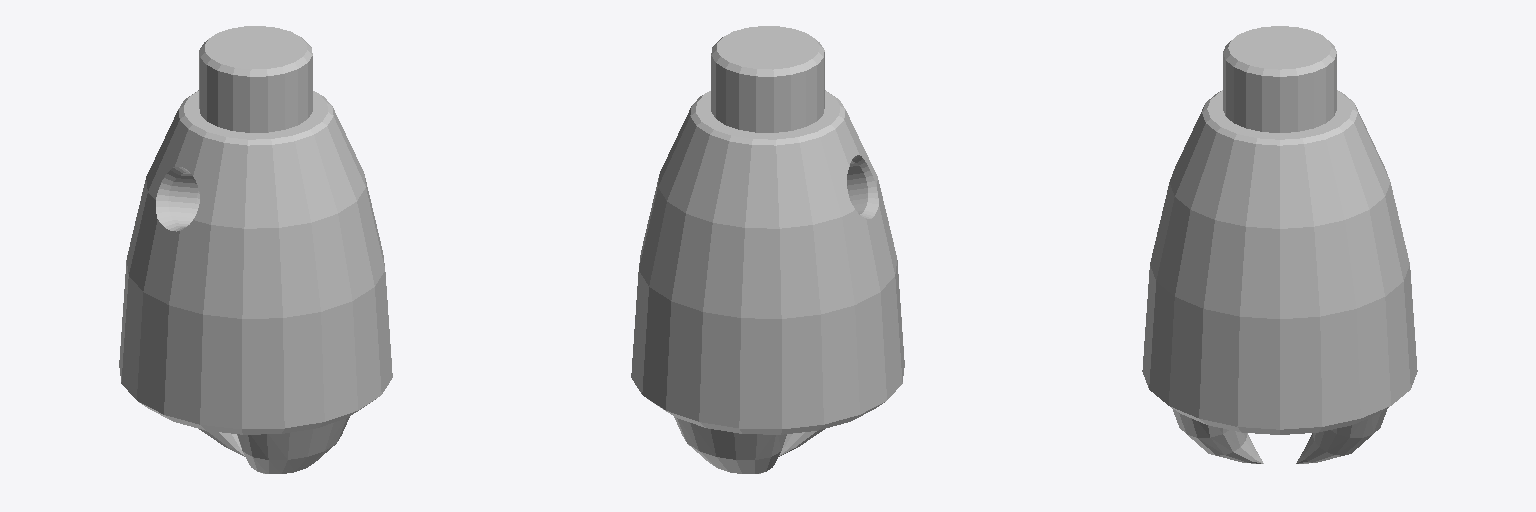
File: JosephHandLeft.obj
3 views of the same model, side by side, from view 1: azimuth 30°, elevation 25°; view 2: azimuth 150°, elevation 25°; view 3: azimuth 270°, elevation 25° (orthographic).
Visible parts, largest first — view 1: HandLeft; view 2: HandLeft; view 3: HandLeft.
Part boxes in pixels (bbox=[...]): HandLeft: bbox=[119, 26, 392, 473]; HandLeft: bbox=[631, 26, 904, 473]; HandLeft: bbox=[1142, 26, 1417, 463].
Size of the model in its own units: 0.2551 by 0.4259 by 0.2551.